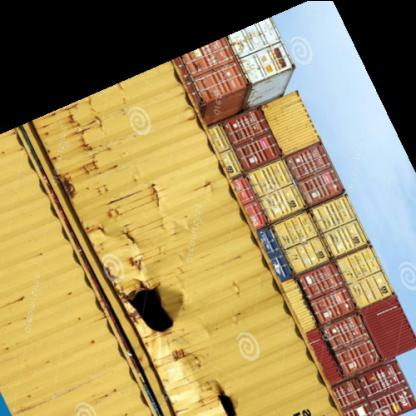Damage: (58, 97, 138, 259), (110, 263, 186, 339), (183, 371, 254, 415)
